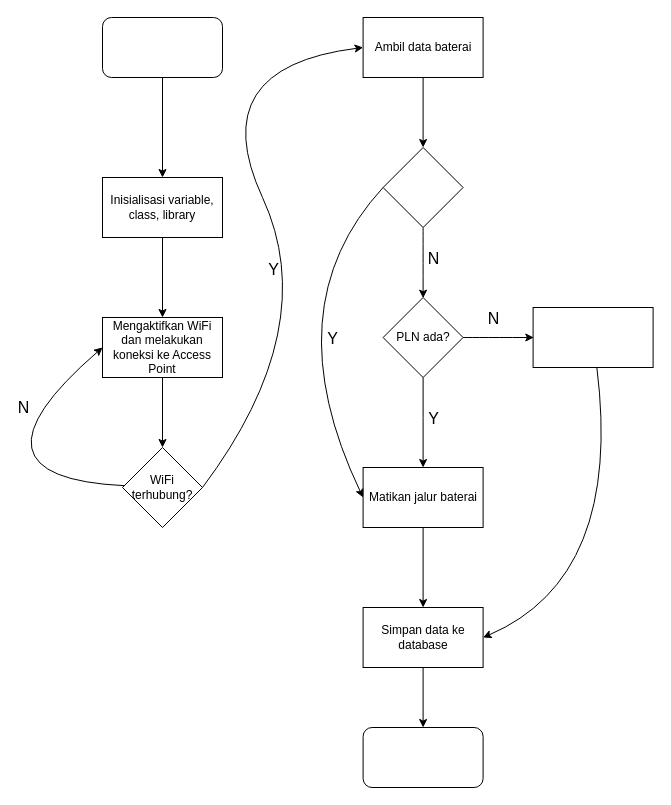
This 671x805 diagram has some shape labels left out. Each missing label, with the box of its shape:
Aktifkan jalur baterai: (532, 306, 653, 368)
Data tidak normal?: (382, 146, 463, 228)
End: (362, 726, 483, 788)
Start: (102, 16, 222, 78)
